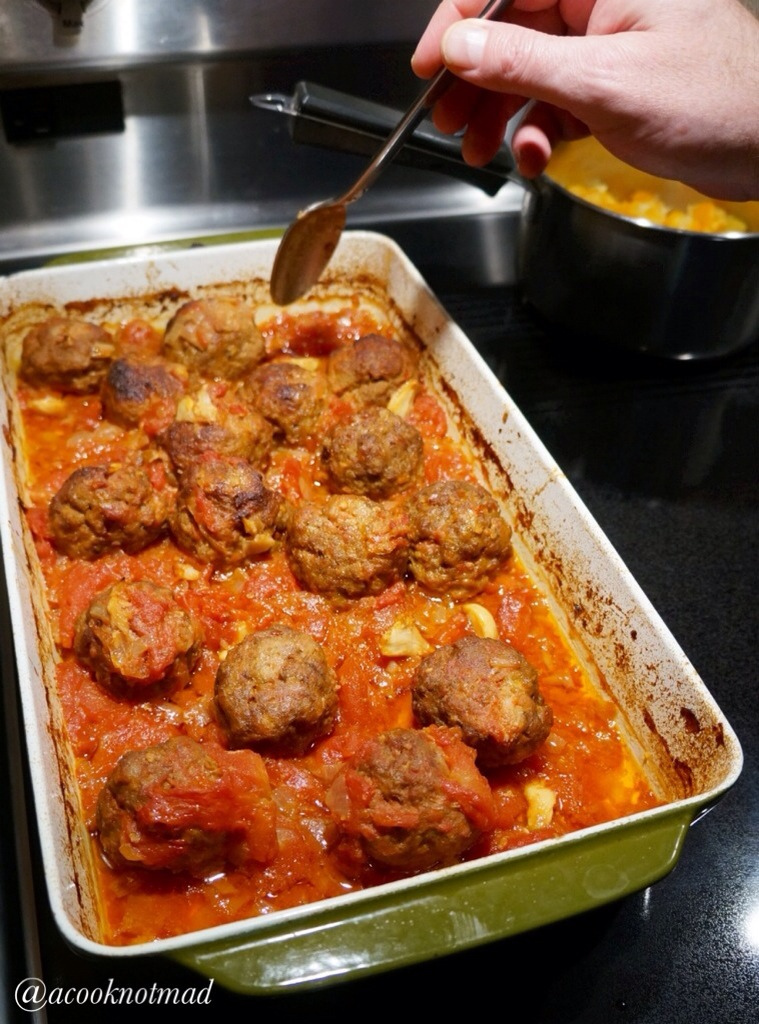meatballs: (329, 737, 482, 853), (104, 751, 243, 864), (290, 492, 407, 592), (224, 634, 338, 736), (425, 655, 537, 749), (181, 463, 287, 555), (63, 463, 175, 549), (164, 304, 272, 389), (92, 583, 191, 670), (427, 487, 509, 579), (319, 344, 427, 413), (30, 320, 124, 389), (249, 363, 338, 432), (328, 413, 418, 481), (115, 375, 183, 414)
